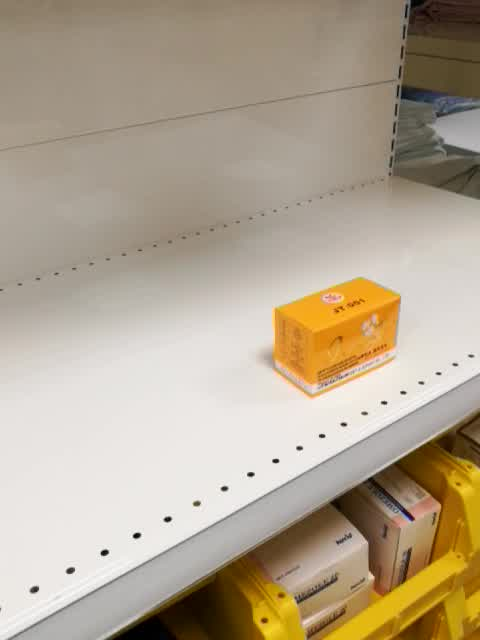jasminetea: (271, 275, 401, 400)
